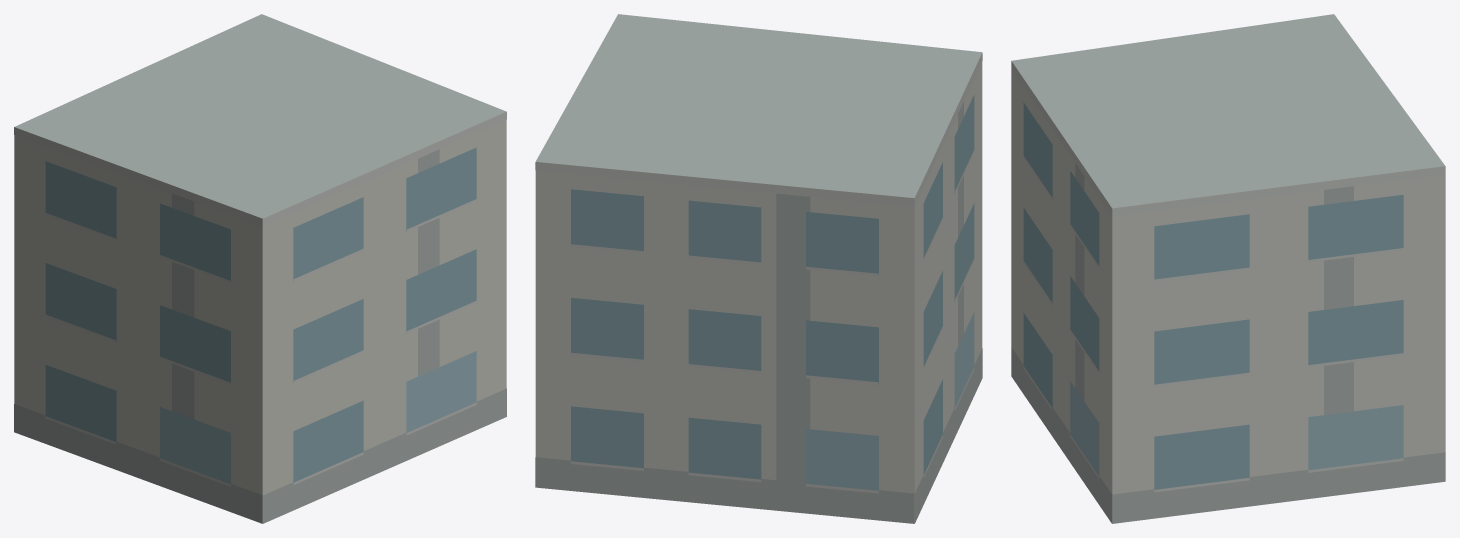
File: residential-9fd4b8db-d167-4629-b4c9-005efd5249ad.glb
3 views of the same model, side by side, from view 1: azimuth 30°, elevation 25°; view 2: azimuth 150°, elevation 25°; view 3: azimuth 270°, elevation 25° (orthographic). The views are drawn at different scales.
Parts seen in each view (by area): view 1: residential-9fd4b8db-d167-4629-b4c9-005efd5249ad.tmp; view 2: residential-9fd4b8db-d167-4629-b4c9-005efd5249ad.tmp; view 3: residential-9fd4b8db-d167-4629-b4c9-005efd5249ad.tmp.
Part boxes in pixels (bbox=[...]): residential-9fd4b8db-d167-4629-b4c9-005efd5249ad.tmp: bbox=[14, 14, 506, 523]; residential-9fd4b8db-d167-4629-b4c9-005efd5249ad.tmp: bbox=[535, 14, 982, 523]; residential-9fd4b8db-d167-4629-b4c9-005efd5249ad.tmp: bbox=[1011, 14, 1445, 523].
Bounding box in the file's own units: 12.1 × 9.15 × 11.42.
